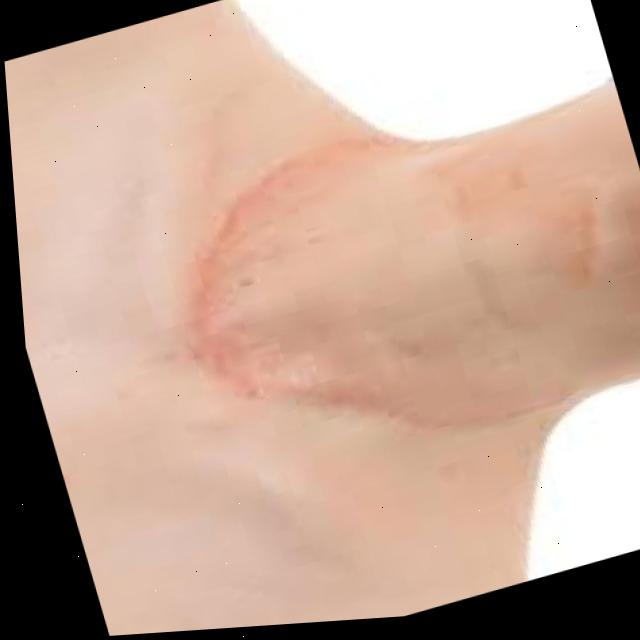Eczema: (162, 129, 533, 465)
